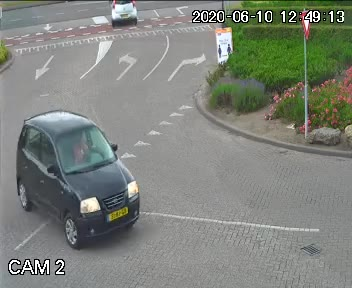car: (10, 108, 159, 251), (109, 0, 140, 33)
